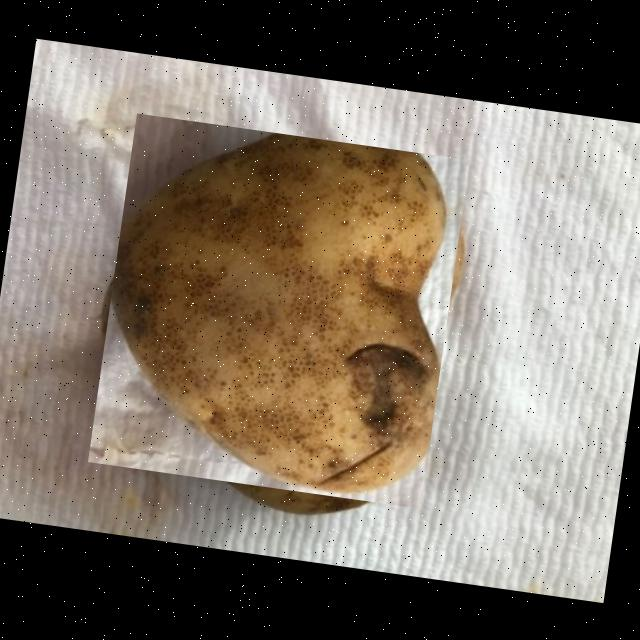Damaged potato: (88, 112, 470, 508)
